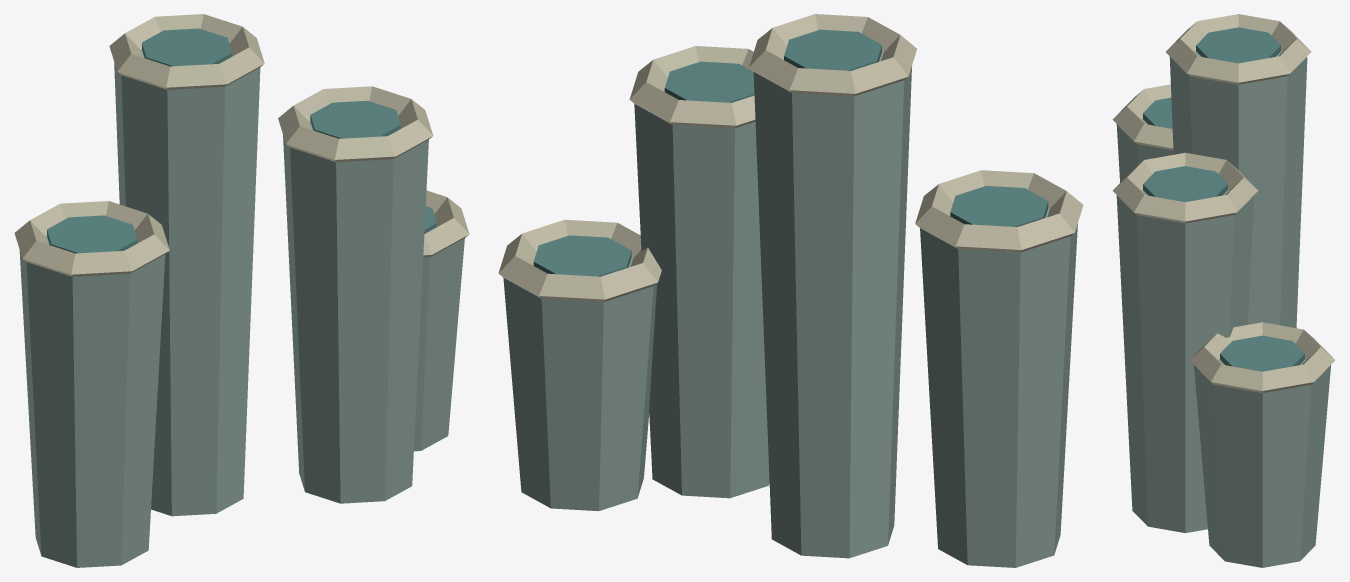
The model's file is map-exclusive-v3__tide_03.glb.
The picture shows the model from 3 angles, left to right: view 1: azimuth 30°, elevation 25°; view 2: azimuth 150°, elevation 25°; view 3: azimuth 270°, elevation 25°; orthographic projection. The views are drawn at different scales.
Visible parts, largest first — view 1: tide_03; view 2: tide_03; view 3: tide_03.
Part boxes in pixels (x1,y1,x2,y2): tide_03: (14, 14, 469, 567); tide_03: (498, 14, 1083, 567); tide_03: (1112, 14, 1335, 567).
Size of the model in its own units: 1.9 by 1.71 by 0.84.
